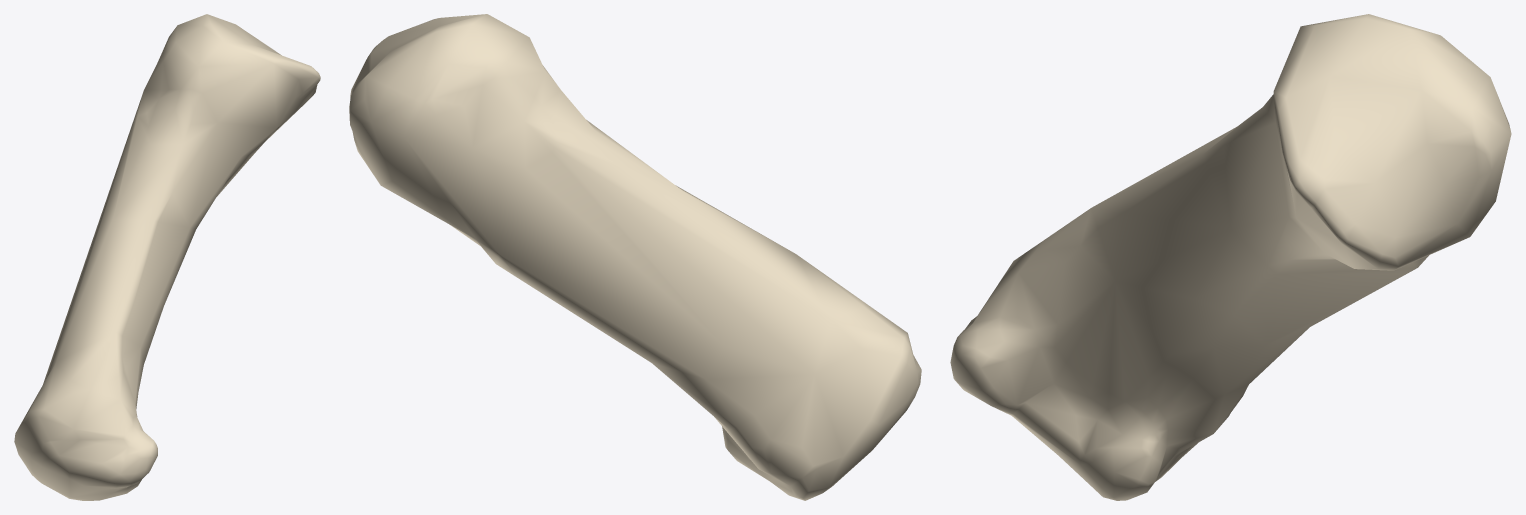
File: first-metacarpal-bone-r.glb
3 views of the same model, side by side, from view 1: azimuth 30°, elevation 25°; view 2: azimuth 150°, elevation 25°; view 3: azimuth 270°, elevation 25° (orthographic). The views are drawn at different scales.
Visible parts, largest first — view 1: First metacarpal bone.r; view 2: First metacarpal bone.r; view 3: First metacarpal bone.r.
Part boxes in pixels (x1=…): First metacarpal bone.r: x1=14, y1=14, x2=320, y2=500; First metacarpal bone.r: x1=349, y1=14, x2=921, y2=500; First metacarpal bone.r: x1=950, y1=14, x2=1511, y2=500.
Size of the model in its own units: 0.0387 by 0.0384 by 0.0315.
